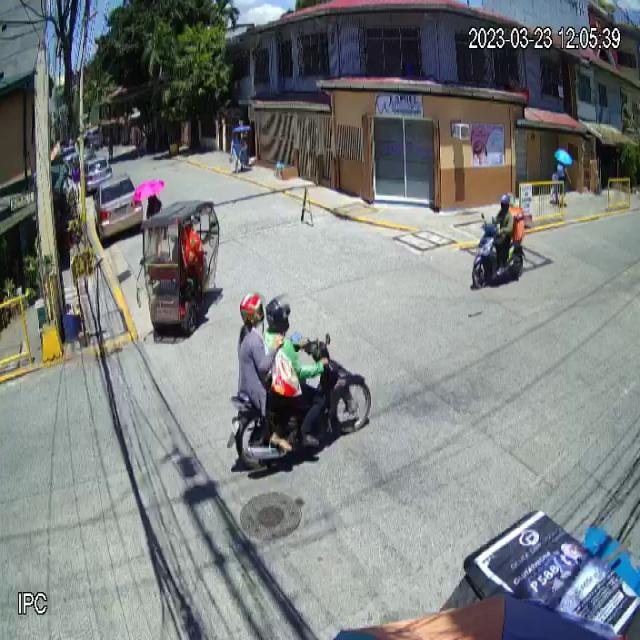Car: (93, 172, 143, 241)
Motorcycle: (226, 331, 371, 473), (472, 212, 528, 293)
